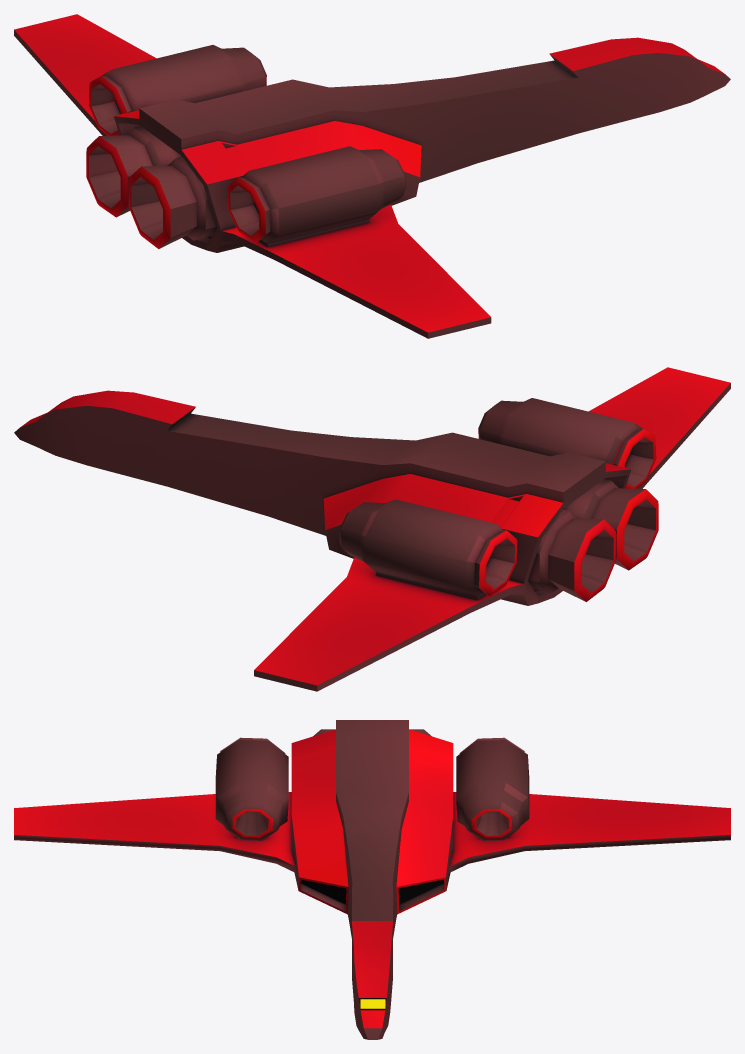
The model's file is FIghter1_1.obj.
3 renders of one model, top to bottom at view 1: azimuth 30°, elevation 25°; view 2: azimuth 150°, elevation 25°; view 3: azimuth 270°, elevation 25°, orthographic. The views are drawn at different scales.
Visible parts, largest first — view 1: Plane003; view 2: Plane003; view 3: Plane003.
Part boxes in pixels (x1=…): Plane003: x1=14, y1=14, x2=730, y2=338; Plane003: x1=14, y1=367, x2=730, y2=691; Plane003: x1=14, y1=720, x2=730, y2=1039.
Size of the model in its own units: 94.09 by 16.71 by 112.
1 material, 1 textured.
